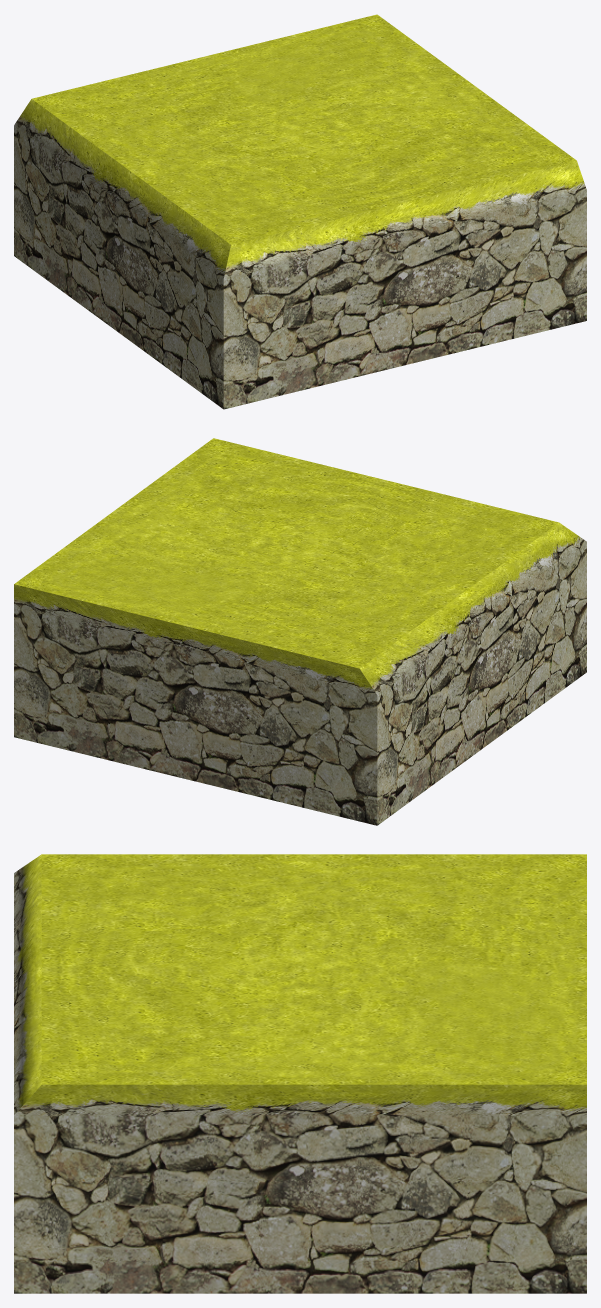
The model's file is Big_Rock_Ledge_Corner_01.fbx.
3 views of the same model, one above another, from view 1: azimuth 30°, elevation 25°; view 2: azimuth 150°, elevation 25°; view 3: azimuth 270°, elevation 25° (orthographic). The views are drawn at different scales.
Visible parts, largest first — view 1: bigCubeReference_polySurface4; view 2: bigCubeReference_polySurface4; view 3: bigCubeReference_polySurface4.
Boxes of the visible parts, left/top/right/bottom form: bigCubeReference_polySurface4: left=14, top=14, right=586, bottom=409; bigCubeReference_polySurface4: left=14, top=438, right=586, bottom=825; bigCubeReference_polySurface4: left=14, top=854, right=586, bottom=1293.
Bounding box in the file's own units: 9.77 × 3.93 × 9.77.
1 material, 1 textured.
